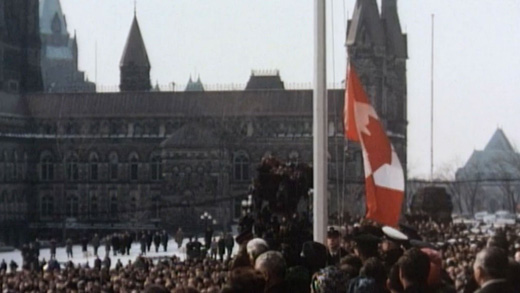Canada flag: (343, 59, 411, 230)
